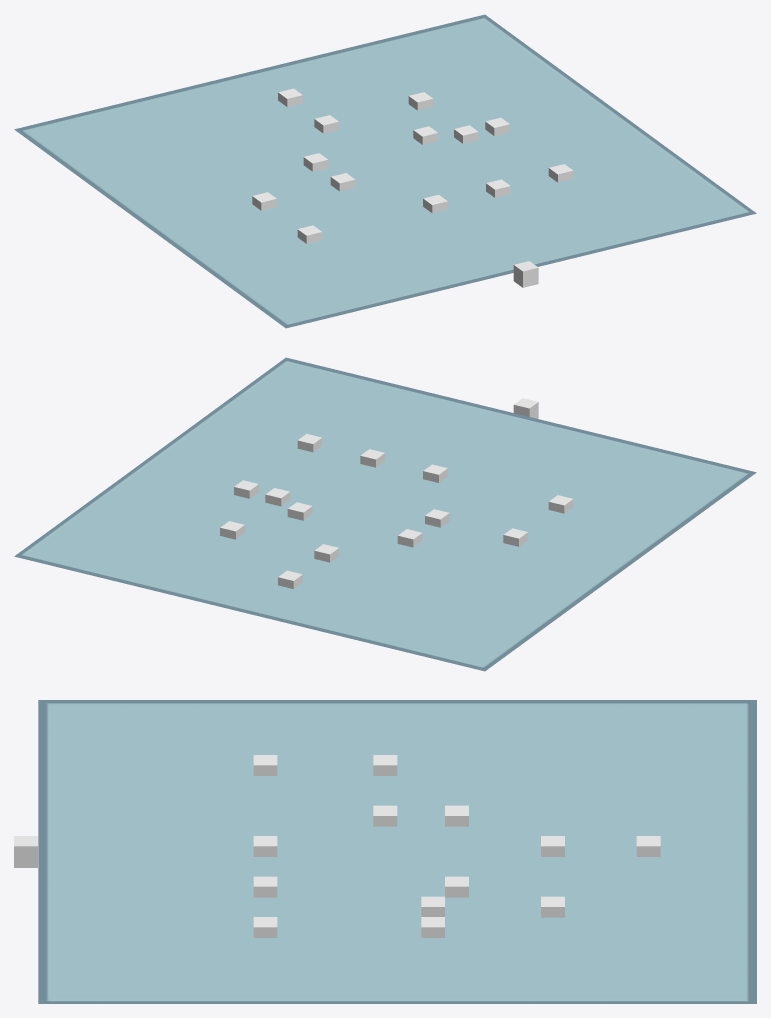
The model's file is layerOne.obj.
3 views of the same model, one above another, from view 1: azimuth 30°, elevation 25°; view 2: azimuth 150°, elevation 25°; view 3: azimuth 270°, elevation 25° (orthographic). The views are drawn at different scales.
Visible parts, largest first — view 1: Plane, wA00; view 2: Plane; view 3: Plane, wA00, wA04, wA07, wA05, wA06, wA11, wA02, wA03, wA08, wA01, wA13.
Boxes of the visible parts, box(x1,y1,x2,y2) form: Plane: box(14, 14, 756, 328); wA00: box(513, 261, 538, 287); Plane: box(14, 357, 756, 671); Plane: box(38, 700, 756, 1003); wA00: box(14, 836, 37, 867); wA04: box(373, 805, 397, 826); wA07: box(253, 876, 277, 897); wA05: box(445, 805, 468, 826); wA06: box(445, 876, 468, 897); wA11: box(541, 896, 564, 917); wA02: box(253, 755, 277, 775); wA03: box(373, 755, 397, 775); wA08: box(253, 917, 277, 937); wA01: box(253, 836, 277, 856); wA13: box(636, 836, 660, 856).
Size of what is drawn, in the model's own units: 30 by 1 by 31.02.
